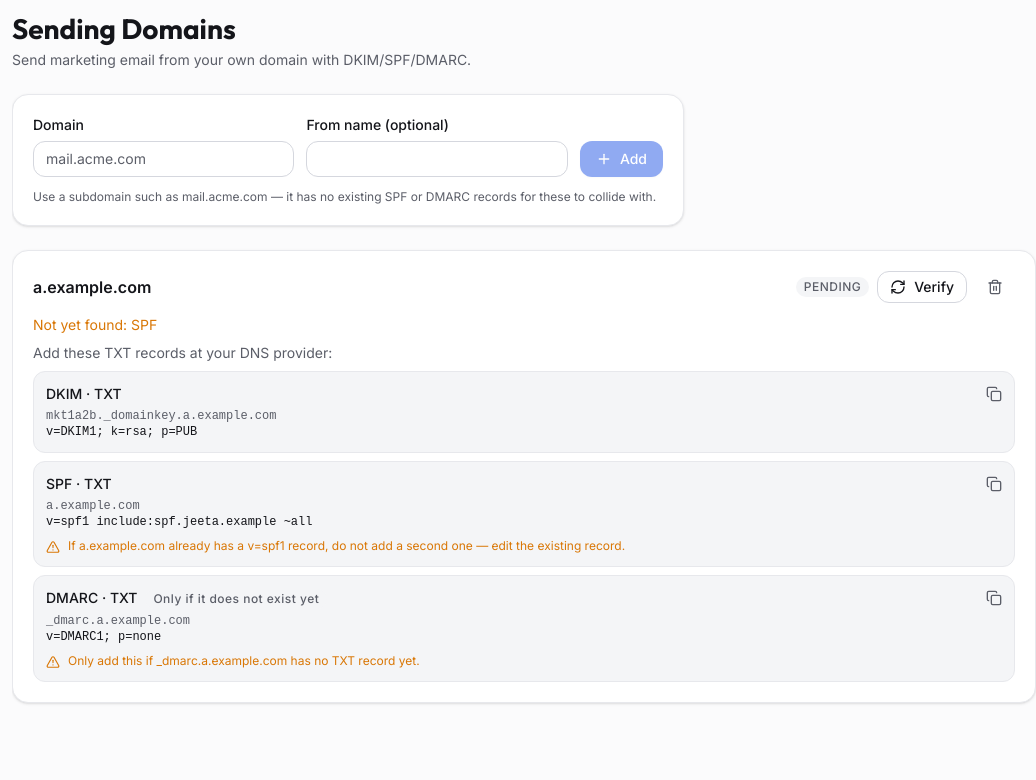
Test: SendingDomainsPage › after a verify that came back with a reason › says the check could not be made, rather than that a record is missing
The width and height of the screenshot is (1036, 780).
Click the button "Verify". click: [922, 287]
box: [877, 271, 967, 303]
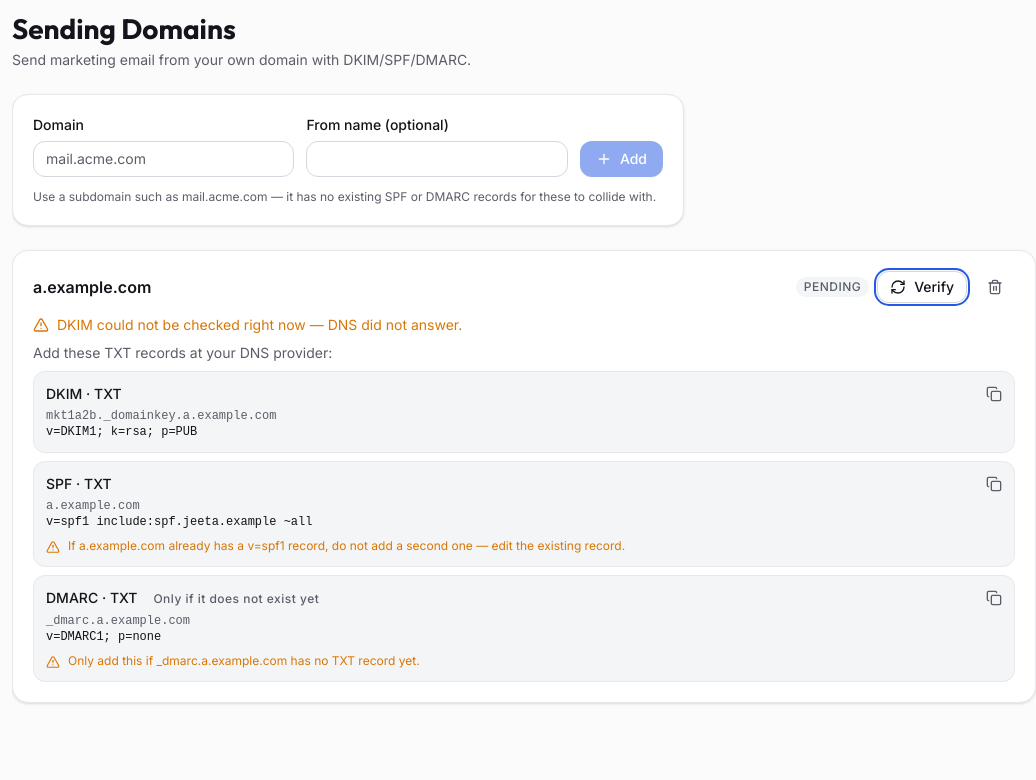
Expected: the text "DKIM could not be checked right now — DNS did not answer." is shown, [57, 315, 462, 335]
